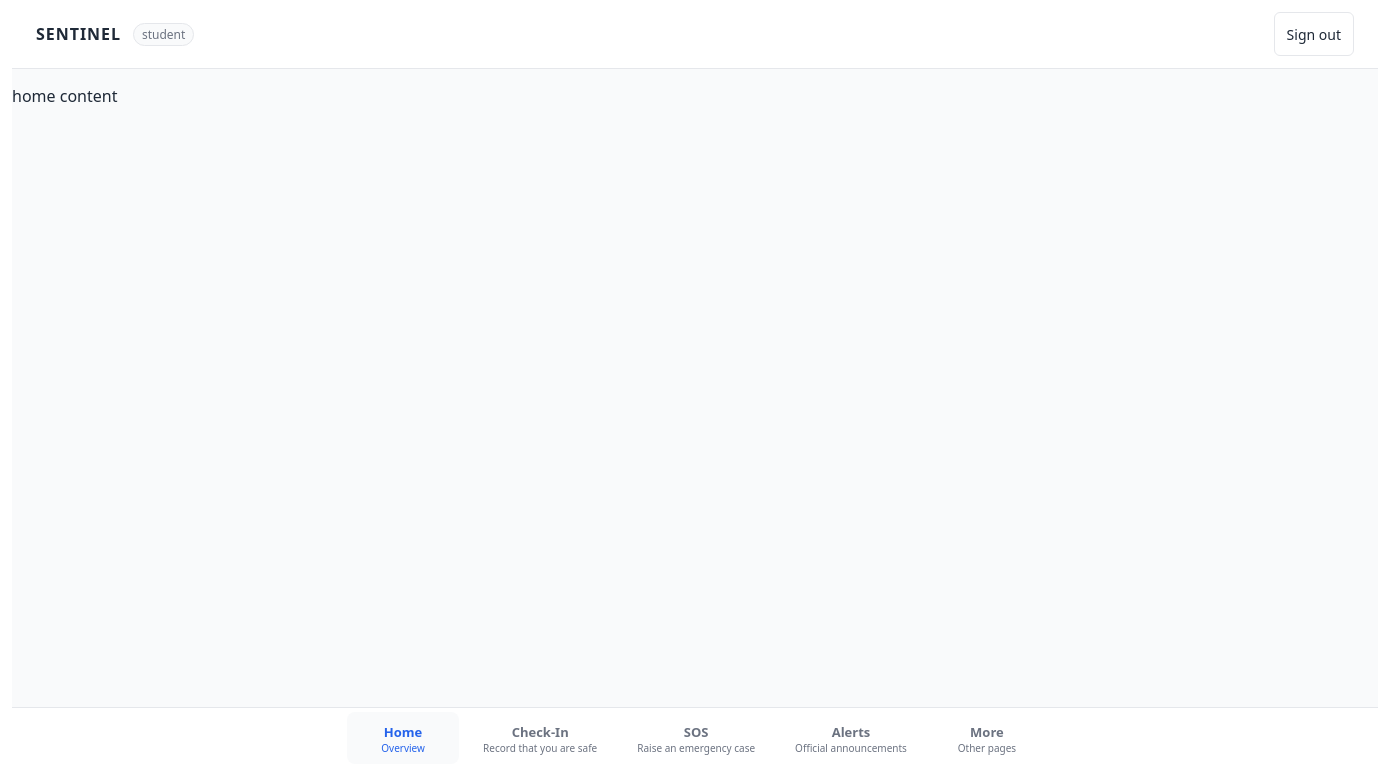
AppShell › opens the More menu with the pages for a student
Click the button "More Other pages": (987, 738) [931, 712, 1043, 764]
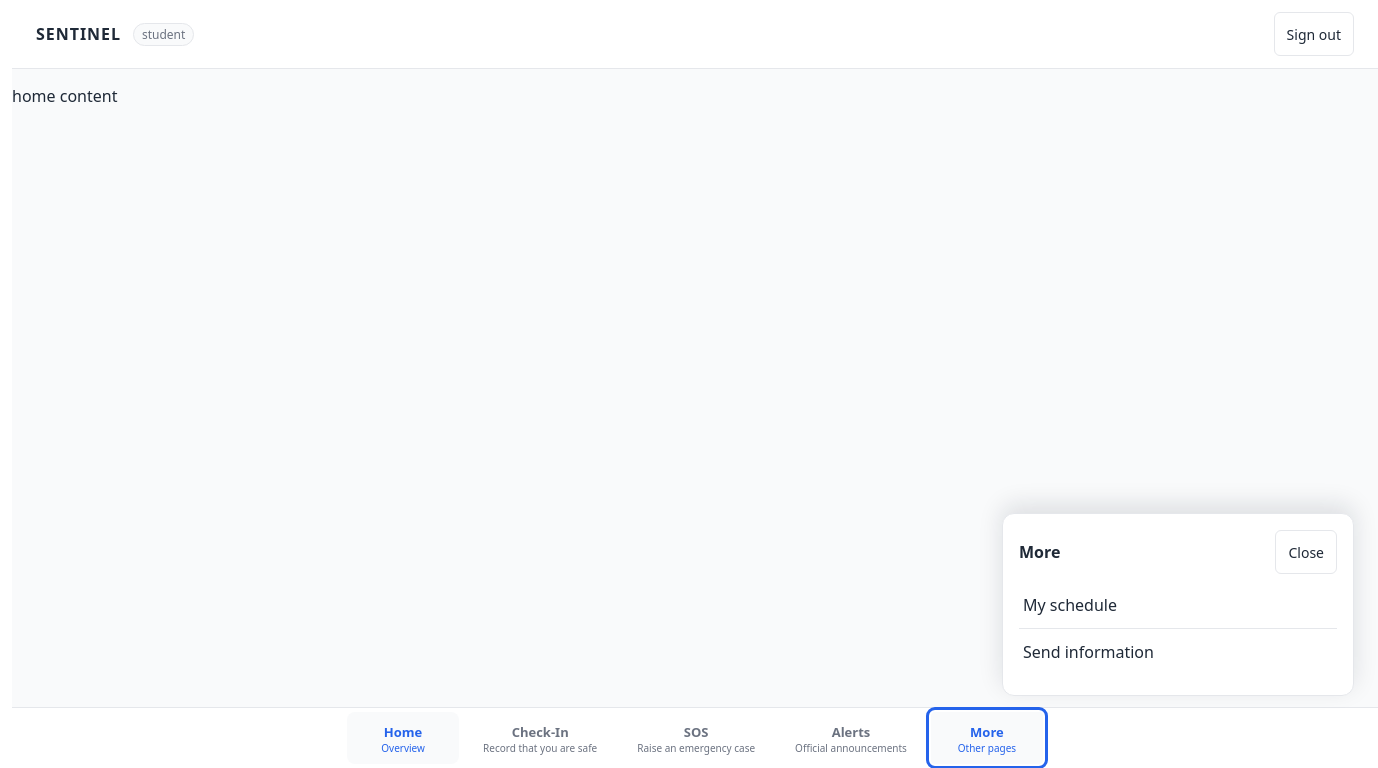
Expected: the button "More Other pages" is expanded, [931, 712, 1043, 764]
Expected: the link "My schedule" is shown, [1023, 594, 1117, 616]
Expected: the link "Send information" is shown, [1023, 641, 1154, 663]
